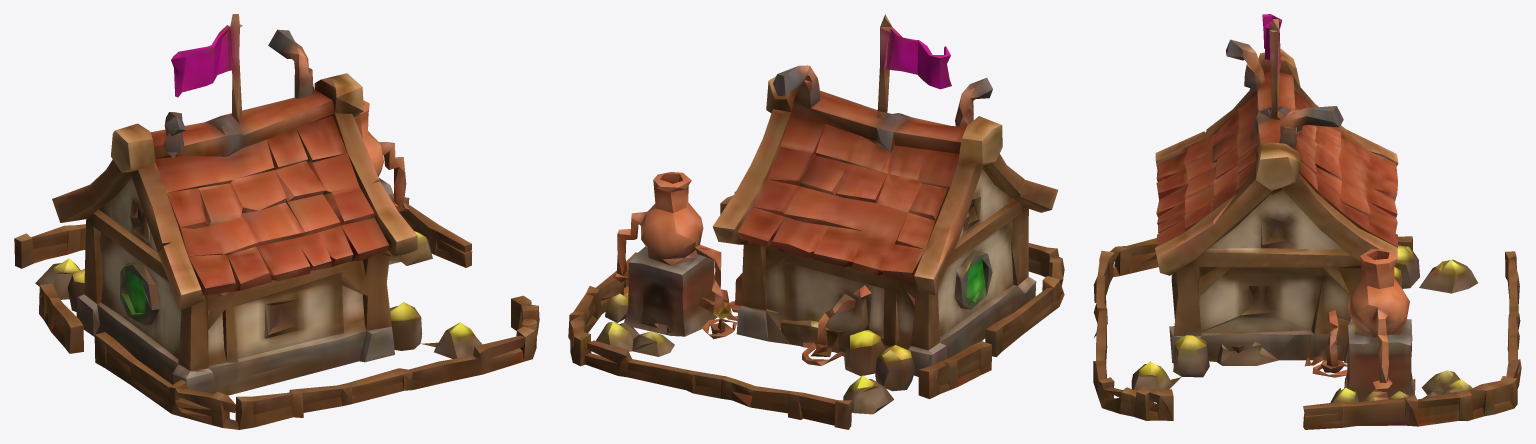
The model's file is alchemist.lod2.glb.
3 renders of one model, left to right at view 1: azimuth 30°, elevation 25°; view 2: azimuth 150°, elevation 25°; view 3: azimuth 270°, elevation 25°, orthographic. The views are drawn at different scales.
Parts seen in each view (by area): view 1: alchemist.lod2_uv; view 2: alchemist.lod2_uv; view 3: alchemist.lod2_uv.
Boxes of the visible parts, box(x1,y1,x2,y2) form: alchemist.lod2_uv: box(14, 14, 539, 429); alchemist.lod2_uv: box(568, 14, 1064, 429); alchemist.lod2_uv: box(1093, 14, 1521, 429).
Size of the model in its own units: 1.84 by 1.46 by 1.89.
1 material, 1 textured.
